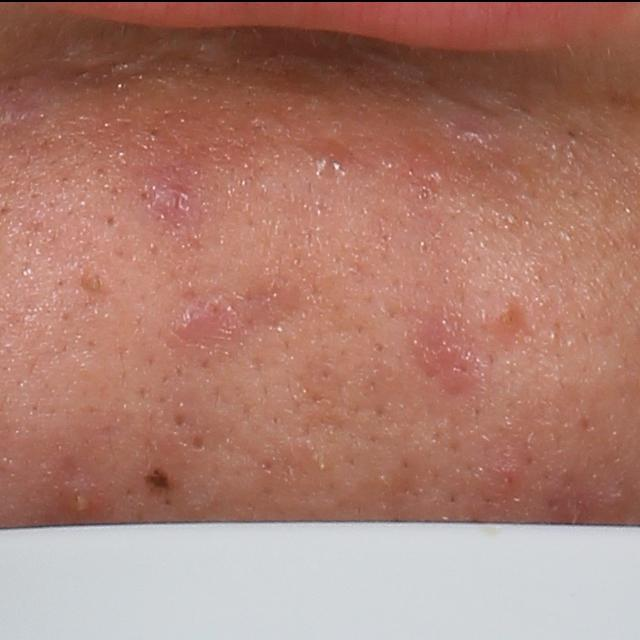comedo: (85, 273, 103, 292)
papule: (425, 330, 478, 387), (177, 305, 211, 337), (492, 301, 520, 338)
pustule: (61, 488, 97, 515)
